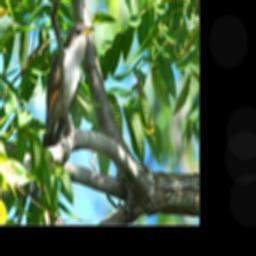Cuckoo: (42, 21, 95, 147)
